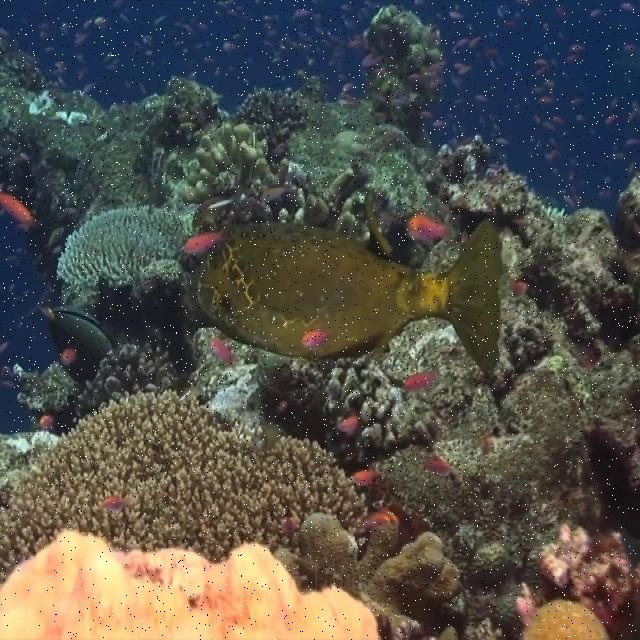fish: (197, 219, 503, 376), (406, 213, 447, 239), (1, 195, 32, 222), (183, 234, 222, 255), (211, 339, 237, 362), (403, 373, 434, 387), (301, 331, 327, 346), (353, 470, 376, 486)
reefs: (0, 393, 366, 584), (1, 531, 380, 638), (282, 516, 461, 637), (56, 207, 188, 284), (184, 124, 271, 202)
